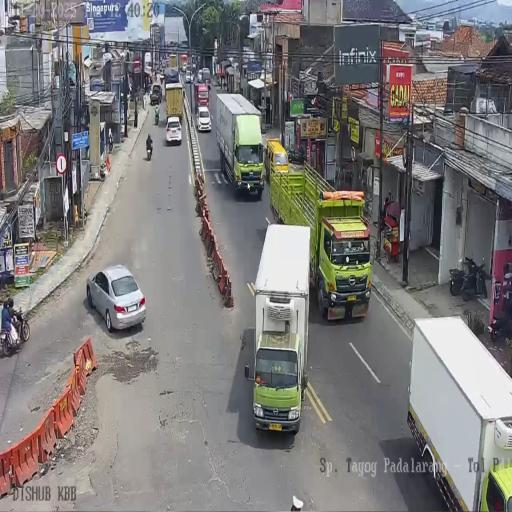3: (407, 316, 511, 512), (251, 223, 310, 431), (217, 92, 262, 198), (168, 55, 178, 69)
car: (86, 264, 146, 331), (166, 117, 182, 145), (197, 104, 212, 131), (149, 84, 162, 106), (200, 68, 210, 84), (185, 71, 194, 84), (195, 72, 202, 85), (181, 62, 187, 72), (191, 63, 196, 73)
truck: (1, 308, 30, 354), (466, 254, 489, 298), (450, 263, 468, 296), (146, 143, 152, 160)
